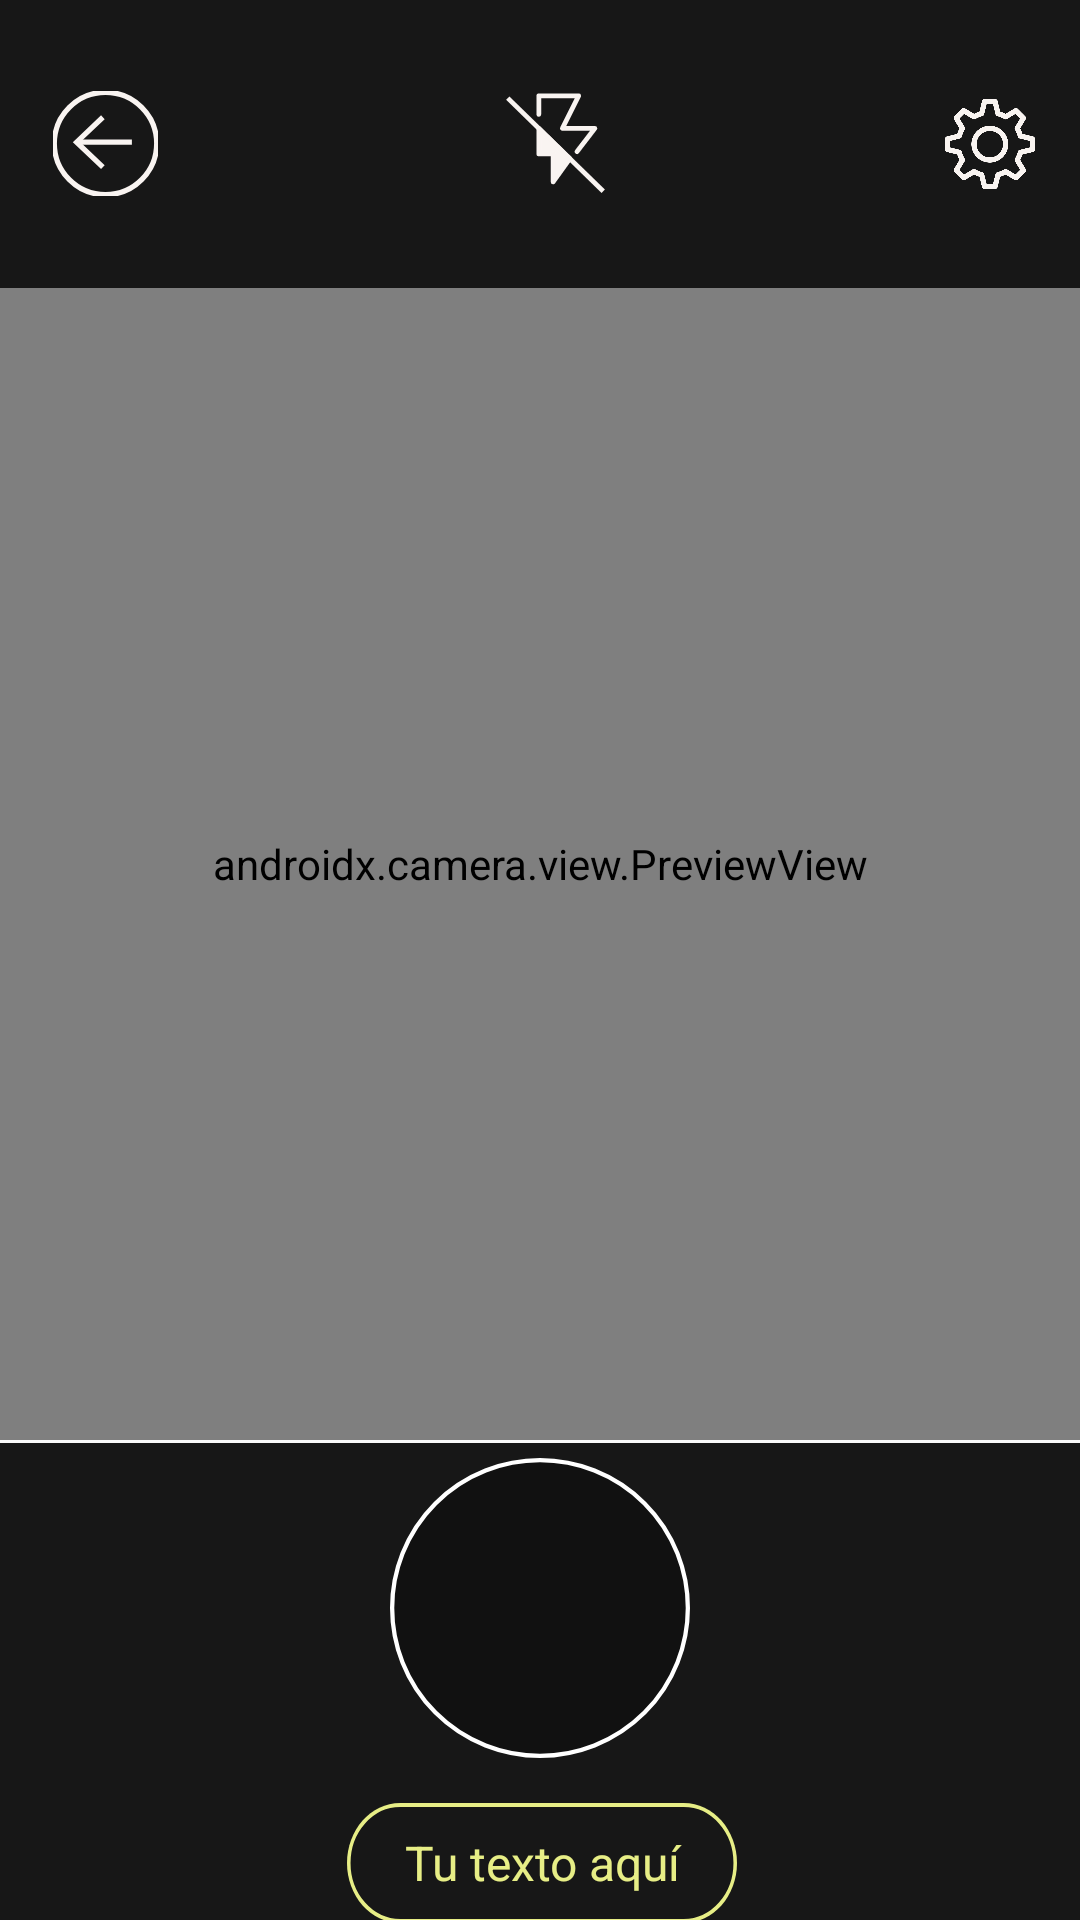

Icon click points for this 1080px×1920px phone screenshot, format [x,y]:
ajustes: [990,144]
flash camara: [555,143]
flecharound: [105,143]
hacer foto: [540,1608]
